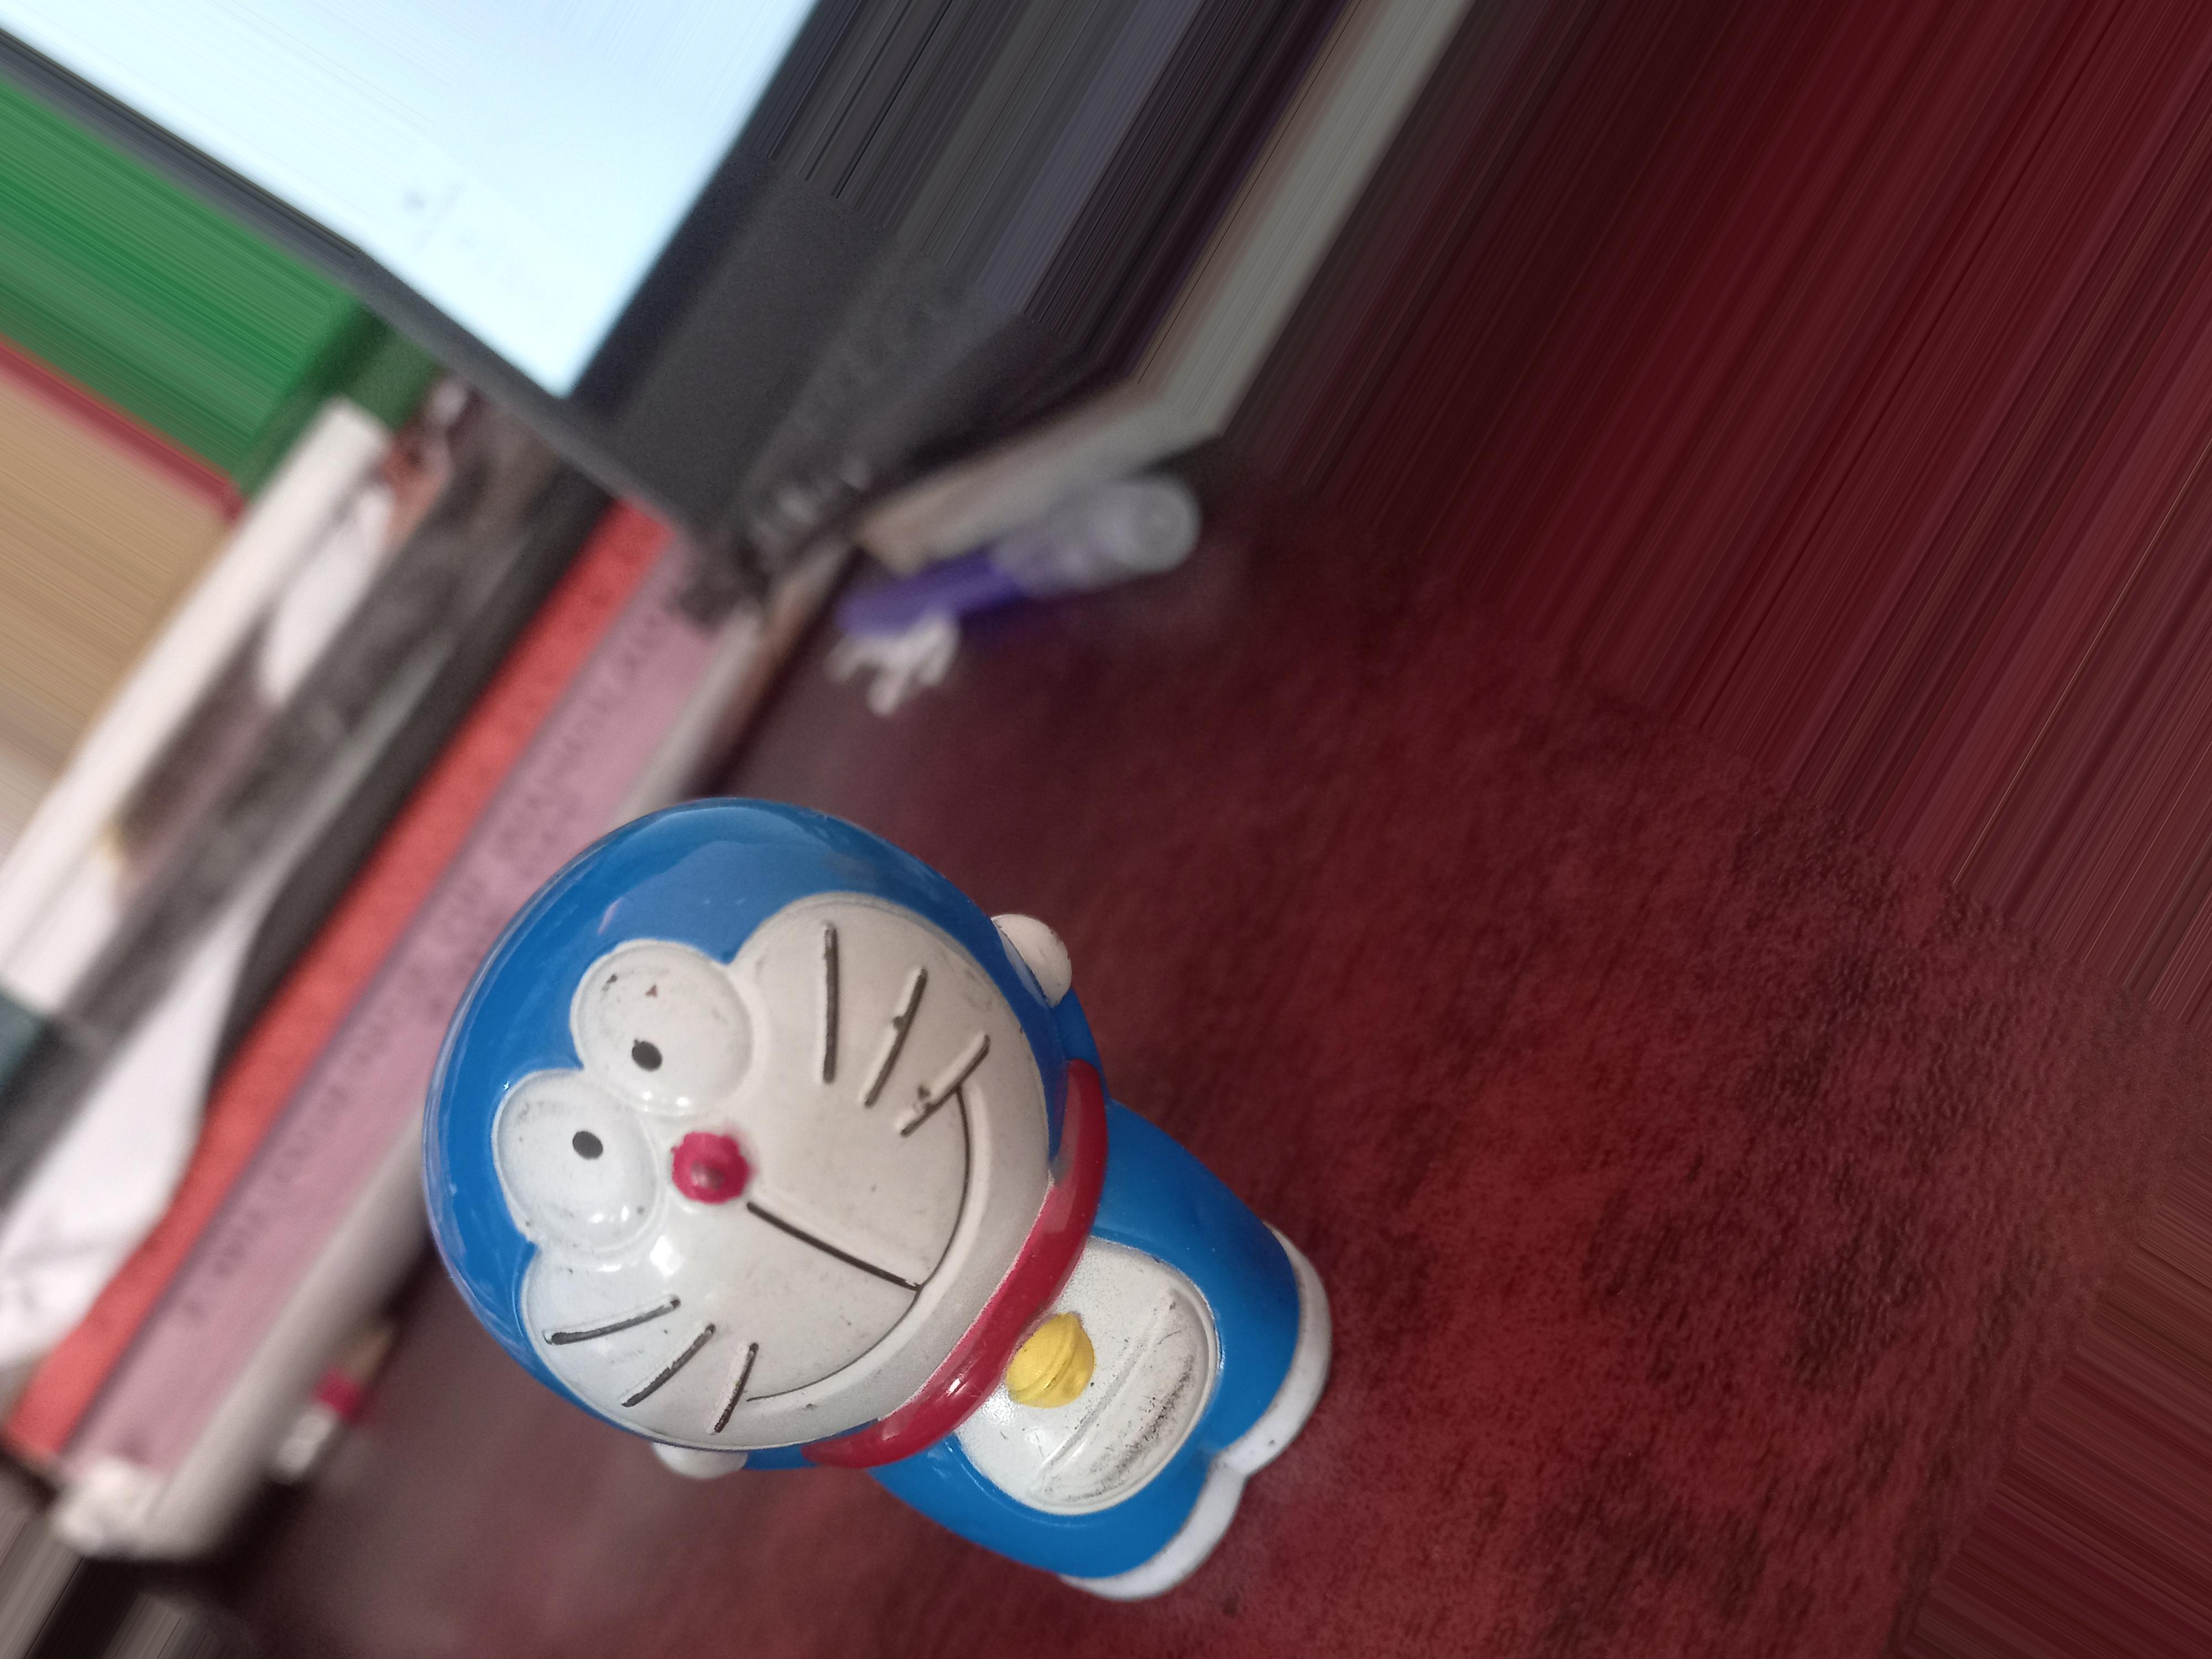doraemon: (373, 997, 1345, 1500)
